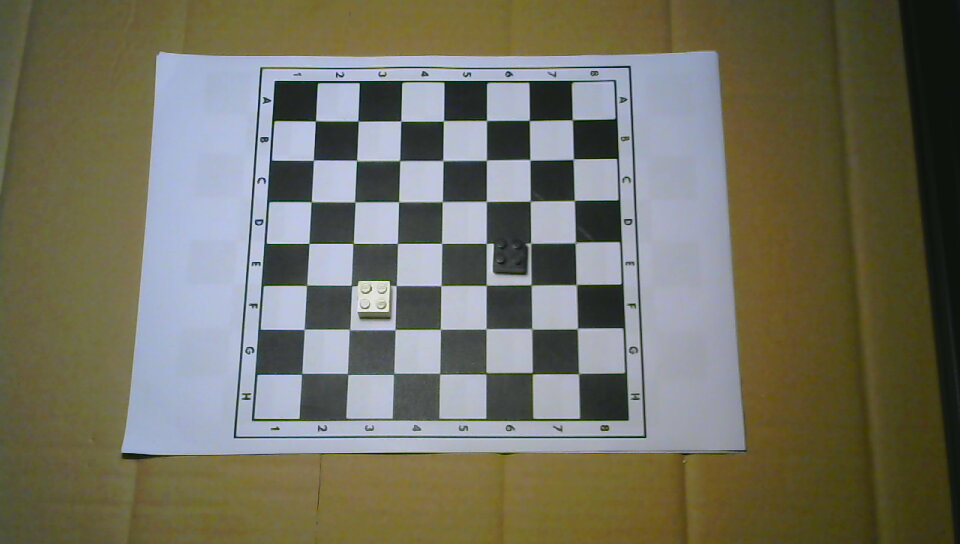bp: (491, 236, 530, 277)
wp: (355, 279, 395, 321)
